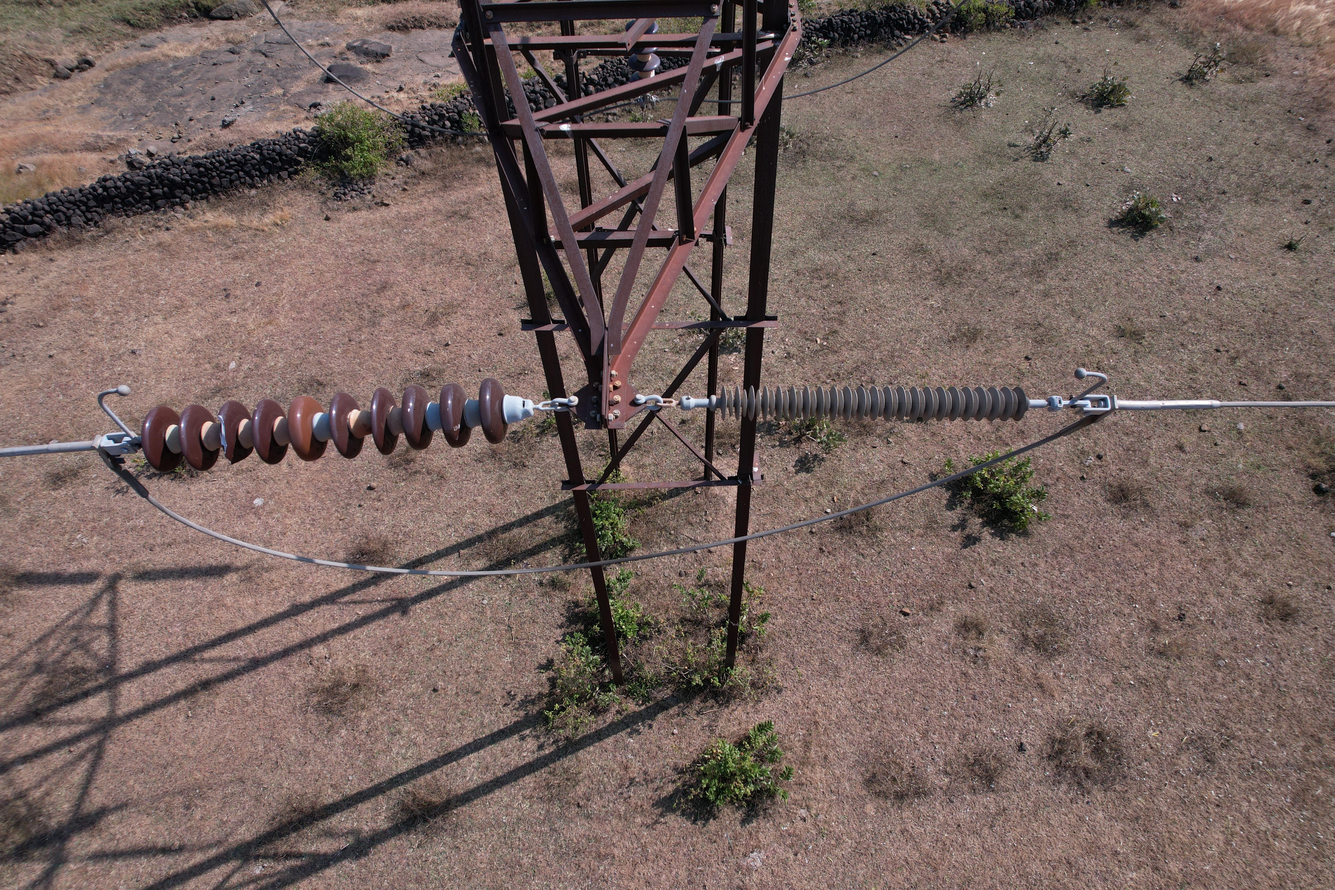broken_insulator: (206, 402, 247, 464)
